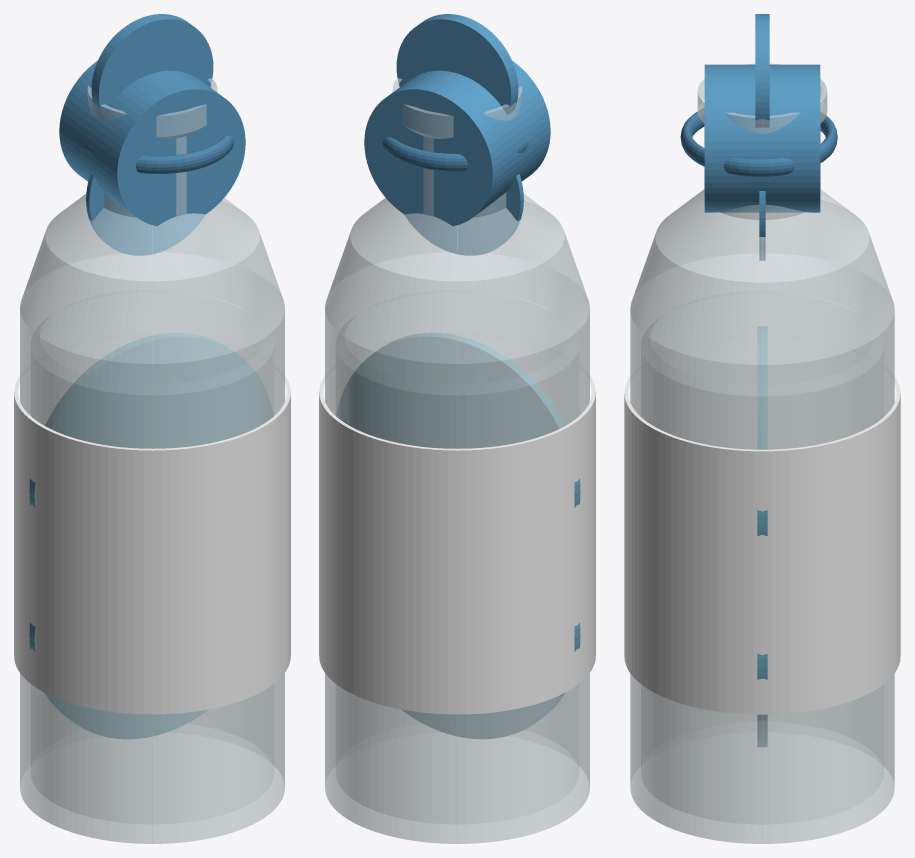
File: botella_sellado.glb
The picture shows the model from 3 angles, left to right: view 1: azimuth 30°, elevation 25°; view 2: azimuth 150°, elevation 25°; view 3: azimuth 270°, elevation 25°; orthographic projection.
Parts seen in each view (by area): view 1: sellado_3, sellado_0, sellado_1, sellado_2, sellado_4; view 2: sellado_3, sellado_0, sellado_1, sellado_2, sellado_4; view 3: sellado_0, sellado_3, sellado_1, sellado_2, sellado_4.
Boxes of the visible parts, box(x1,y1,x2,y2) form: sellado_3: box(14, 333, 290, 738); sellado_0: box(20, 78, 284, 843); sellado_1: box(31, 289, 273, 824); sellado_2: box(59, 14, 245, 255); sellado_4: box(84, 135, 233, 173); sellado_3: box(319, 333, 595, 738); sellado_0: box(325, 78, 589, 843); sellado_1: box(336, 289, 578, 824); sellado_2: box(364, 14, 550, 255); sellado_4: box(382, 137, 528, 171); sellado_0: box(630, 63, 894, 843); sellado_3: box(624, 326, 900, 746); sellado_1: box(641, 291, 883, 824); sellado_2: box(704, 14, 820, 260); sellado_4: box(680, 108, 837, 176).
Bounding box in the file's own units: 4.2 × 12.83 × 4.18.
Materials: 5 (1 with a texture image).
